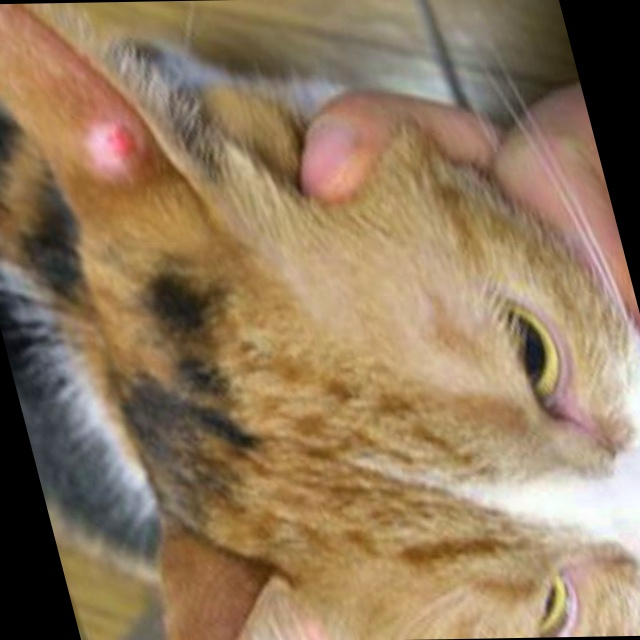lump_and_bump: (77, 120, 151, 174)
